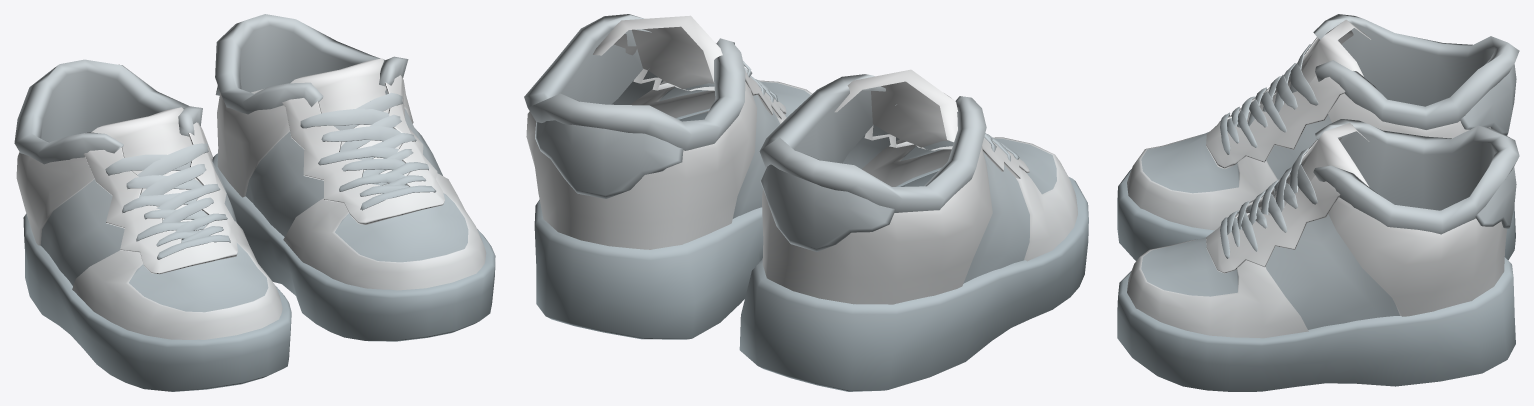
The model's file is shoe_sneakers_009.glb.
3 renders of one model, left to right at view 1: azimuth 30°, elevation 25°; view 2: azimuth 150°, elevation 25°; view 3: azimuth 270°, elevation 25°, orthographic. The views are drawn at different scales.
Parts seen in each view (by area): view 1: Shoe_Sneakers_009; view 2: Shoe_Sneakers_009; view 3: Shoe_Sneakers_009.
Part boxes in pixels (x1=…): Shoe_Sneakers_009: x1=14, y1=14, x2=495, y2=391; Shoe_Sneakers_009: x1=524, y1=14, x2=1088, y2=391; Shoe_Sneakers_009: x1=1117, y1=14, x2=1519, y2=391.
Bounding box in the file's own units: 0.3795 × 0.1946 × 0.327.
1 material, 1 textured.
